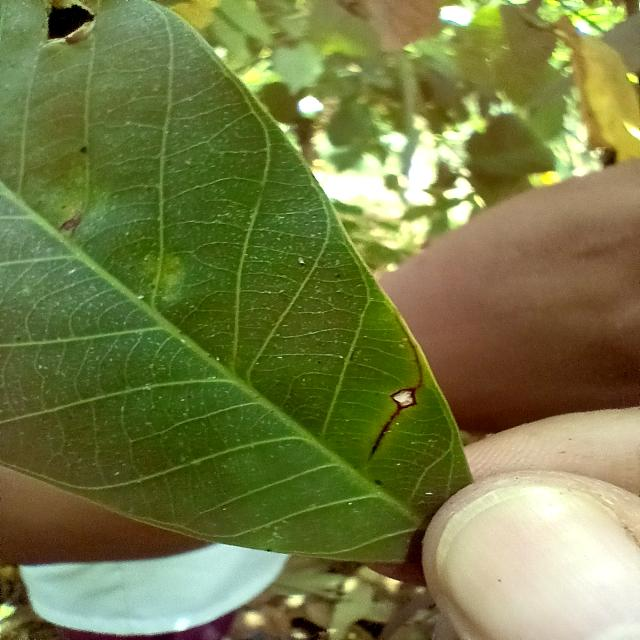Corynespora: (369, 384, 421, 461)
